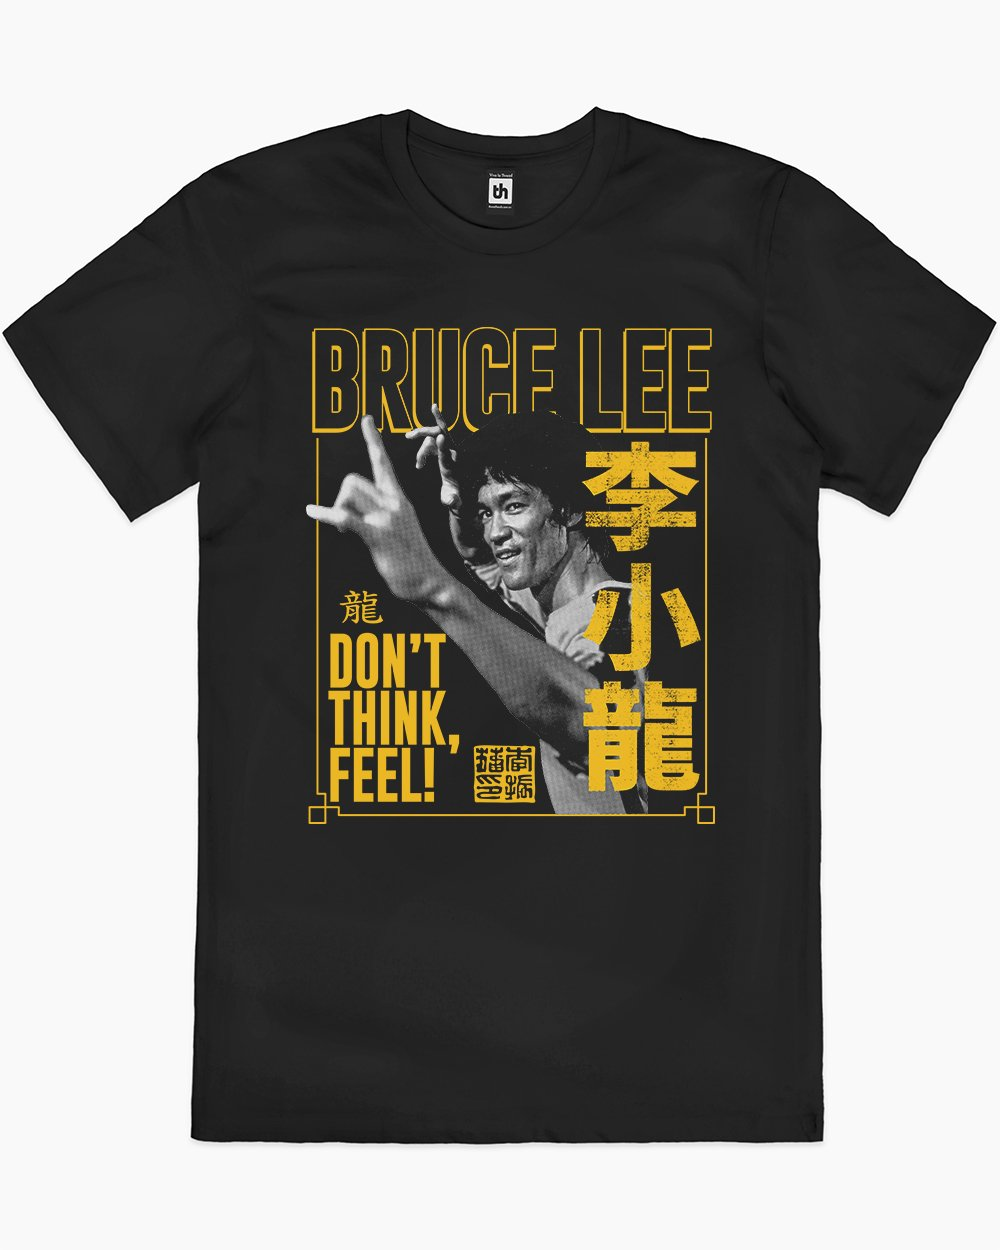design: (294, 318, 723, 831)
